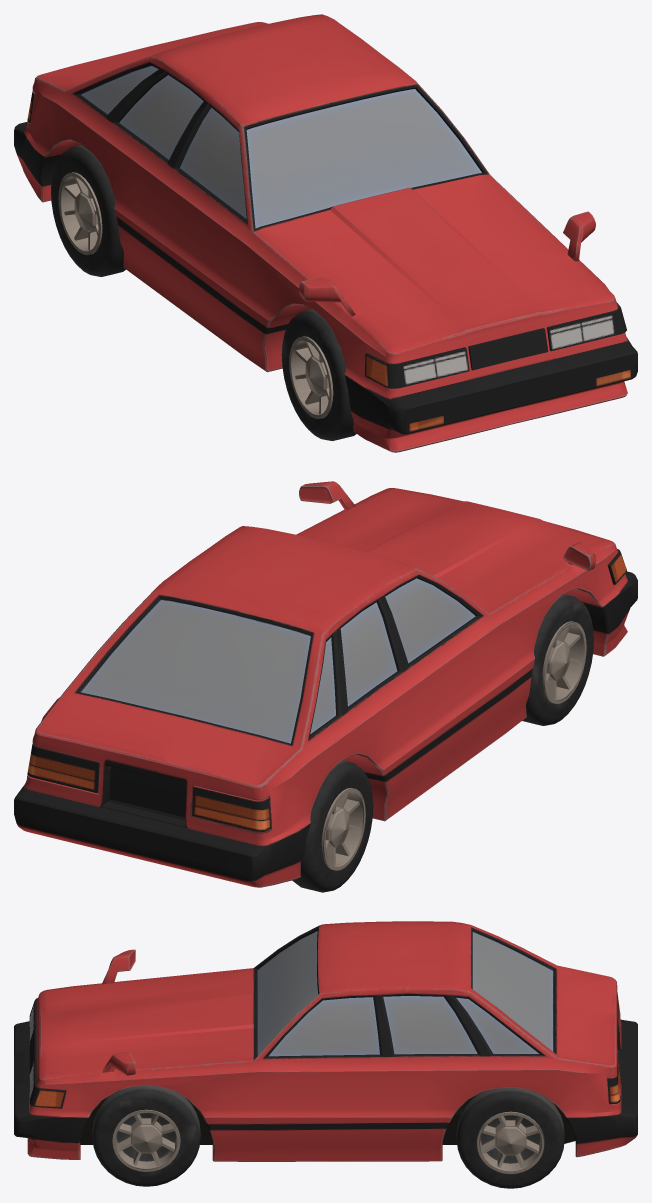
The model's file is Car_Model_01.fbx.
The picture shows the model from 3 angles, top to bottom: view 1: azimuth 30°, elevation 25°; view 2: azimuth 150°, elevation 25°; view 3: azimuth 270°, elevation 25°; orthographic projection. The views are drawn at different scales.
Visible parts, largest first — view 1: Cube, Cylinder, Cube.001; view 2: Cube, Cylinder, Cube.001; view 3: Cube, Cylinder, Cube.002, Cube.001.
Boxes of the visible parts, <box> form: Cube: <box>14,14,637,452</box>; Cylinder: <box>51,145,356,440</box>; Cube.001: <box>299,211,595,316</box>; Cube: <box>14,488,637,887</box>; Cylinder: <box>292,594,593,892</box>; Cube.001: <box>299,481,595,570</box>; Cube: <box>14,921,637,1161</box>; Cylinder: <box>92,1085,564,1188</box>; Cube.002: <box>80,1095,575,1144</box>; Cube.001: <box>102,949,135,1075</box>.
Bounding box in the file's own units: 1.58 × 1.22 × 3.64.
